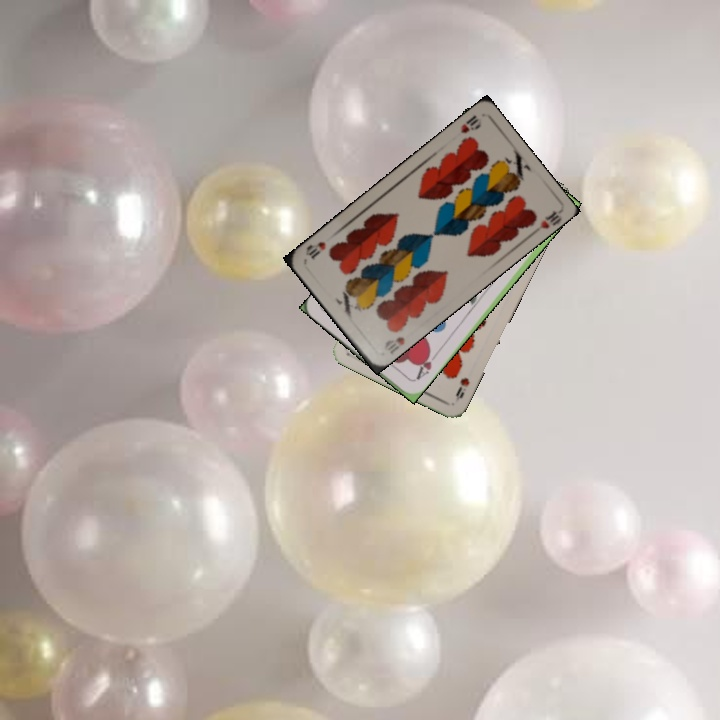H10: (456, 111, 484, 136), (380, 332, 408, 356)
H9: (451, 373, 472, 404)
HA: (410, 346, 434, 383)
